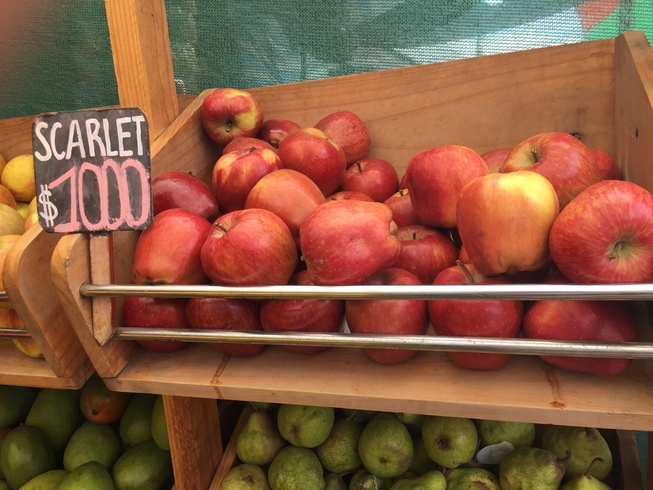precio: (34, 107, 152, 234)
